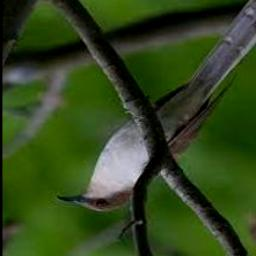Cuckoo: (56, 0, 256, 212)
